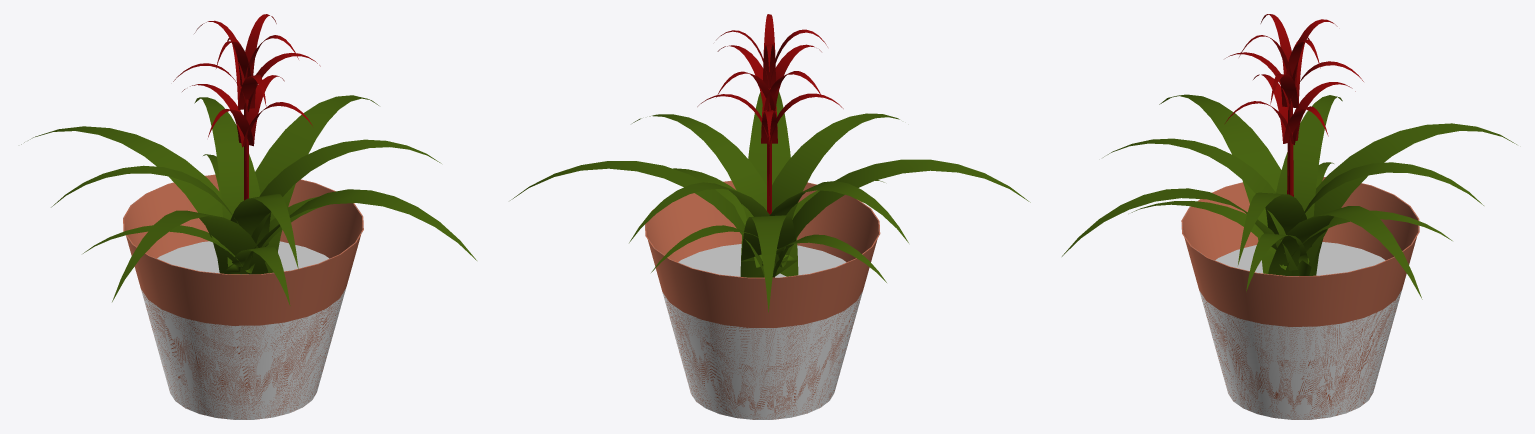
Rendered from plant.min.dae.
3 renders of one model, left to right at view 1: azimuth 30°, elevation 25°; view 2: azimuth 150°, elevation 25°; view 3: azimuth 270°, elevation 25°, orthographic. The views are drawn at different scales.
Parts seen in each view (by area): view 1: pot (×4), Bromeliad_Plant (×12); view 2: pot (×3), Bromeliad_Plant (×12); view 3: pot (×4), Bromeliad_Plant (×12).
Part boxes in pixels (box(x1,y1,x2,y2)): pot (×4): box(123, 174, 363, 419); Bromeliad_Plant (×12): box(21, 14, 476, 305); pot (×3): box(646, 181, 878, 419); Bromeliad_Plant (×12): box(510, 14, 1030, 312); pot (×4): box(1181, 177, 1419, 419); Bromeliad_Plant (×12): box(1062, 14, 1516, 299).
Size of the model in its own units: 30.74 by 30.74 by 26.51.
